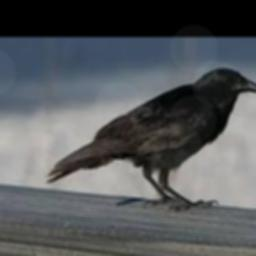Crow: (42, 67, 256, 211)
